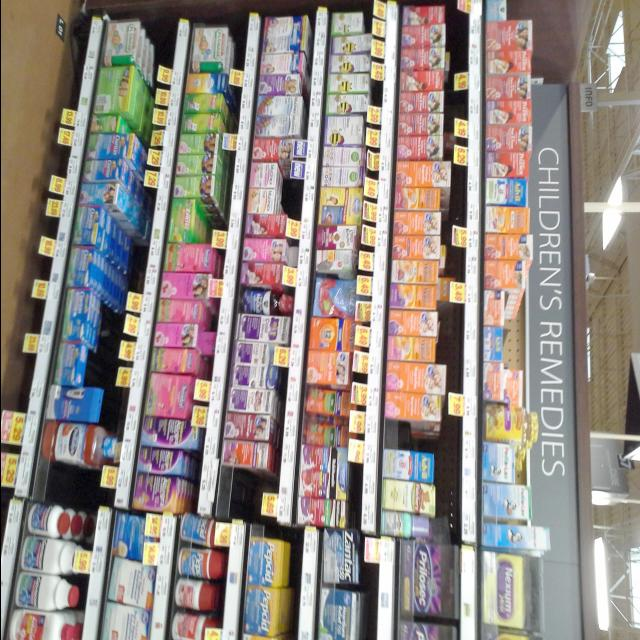empty_space: (41, 469, 97, 503), (219, 473, 257, 519), (382, 424, 432, 448)
